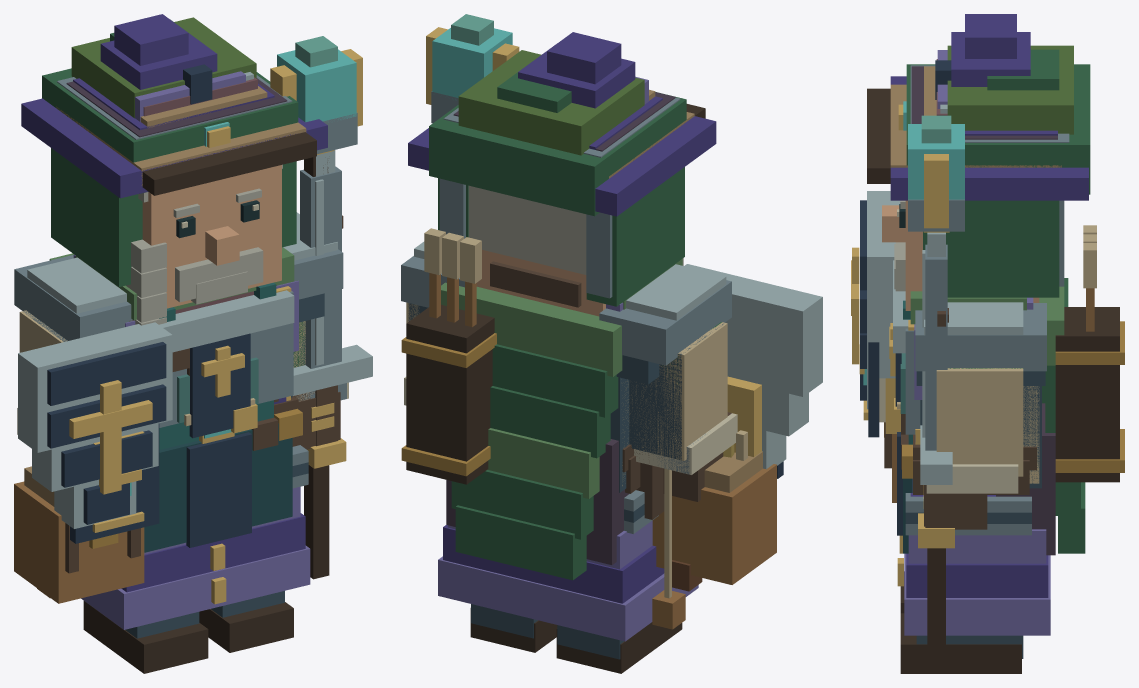
Rendered from trainer-kit.glb.
3 views of the same model, side by side, from view 1: azimuth 30°, elevation 25°; view 2: azimuth 150°, elevation 25°; view 3: azimuth 270°, elevation 25° (orthographic).
Visible parts, largest first — view 1: village-knight-trainer-body, village-knight-trainer-left-arm, village-ranger-trainer-head, village-knight-trainer-head, village-mage-trainer-head, village-mage-trainer-body, village-mount-seller-left-arm, village-knight-trainer-right-arm, village-mage-trainer-right-arm, village-mount-seller-body, village-riding-trainer-head, village-mount-seller-head (+2 smaller); view 2: village-ranger-trainer-body, village-ranger-trainer-head, village-mount-seller-left-arm, village-knight-trainer-body, village-knight-trainer-left-arm, village-mage-trainer-body, village-knight-trainer-head, village-mage-trainer-head, village-mage-trainer-right-arm, village-riding-trainer-body, village-riding-trainer-head, village-ranger-trainer-left-arm (+1 smaller); view 3: village-ranger-trainer-head, village-knight-trainer-body, village-ranger-trainer-body, village-mage-trainer-body, village-mage-trainer-head, village-mount-seller-right-arm, village-knight-trainer-right-arm, village-mage-trainer-right-arm, village-knight-trainer-left-arm, village-knight-trainer-head, village-riding-trainer-head, village-mount-seller-body (+4 smaller).
Boxes of the visible parts, x1,y1,x2,y2 form: village-knight-trainer-body: (14,212,343,673); village-knight-trainer-left-arm: (18,310,172,528); village-ranger-trainer-head: (42,17,298,320); village-knight-trainer-head: (57,64,292,308); village-mage-trainer-head: (21,14,327,325); village-mage-trainer-body: (73,254,310,629); village-mount-seller-left-arm: (14,310,144,603); village-knight-trainer-right-arm: (293,150,372,468); village-mage-trainer-right-arm: (270,36,362,579); village-mount-seller-body: (144,282,302,552); village-riding-trainer-head: (66,77,316,195); village-mount-seller-head: (56,86,306,185); village-ranger-trainer-body: (401,228,622,580); village-ranger-trainer-head: (429,50,686,309); village-mount-seller-left-arm: (629,322,776,584); village-knight-trainer-body: (401,241,731,673); village-knight-trainer-left-arm: (629,264,822,501); village-mage-trainer-body: (438,302,698,641); village-knight-trainer-head: (439,97,680,316); village-mage-trainer-head: (408,32,716,265); village-mage-trainer-right-arm: (426,14,519,123); village-riding-trainer-body: (446,439,664,564); village-riding-trainer-head: (453,92,705,307); village-ranger-trainer-left-arm: (634,322,731,629); village-ranger-trainer-head: (906,45,1090,324); village-knight-trainer-body: (889,260,1046,673); village-ranger-trainer-body: (894,225,1124,553); village-mage-trainer-body: (897,297,1050,635); village-mage-trainer-head: (890,14,1088,200); village-mount-seller-right-arm: (926,368,1023,493); village-knight-trainer-right-arm: (918,232,987,548); village-mage-trainer-right-arm: (908,115,964,657); village-knight-trainer-left-arm: (851,191,900,409); village-knight-trainer-head: (882,60,1069,310); village-riding-trainer-head: (867,59,1057,183); village-mount-seller-body: (897,300,1039,553).
Size of the model in its own units: 1.69 by 2.67 by 1.1.
